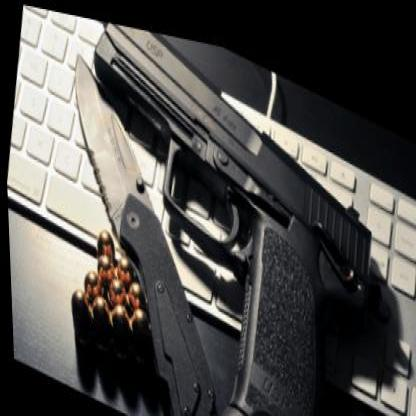pistol: (46, 8, 394, 412)
